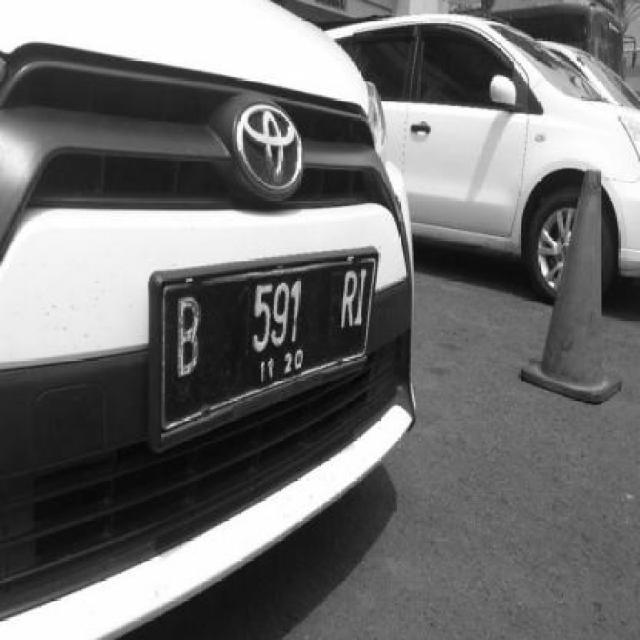1: (290, 277, 306, 347)
5: (250, 280, 272, 358)
9: (272, 276, 290, 351)
B: (171, 292, 207, 385)
I: (356, 261, 370, 330)
R: (336, 272, 356, 337)
